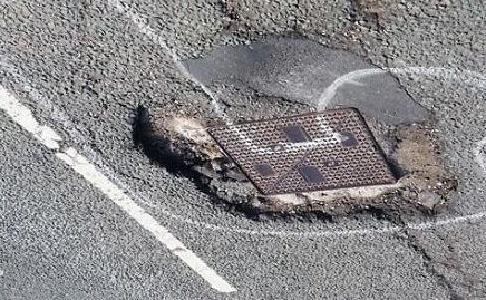pothole: (127, 102, 462, 228)
